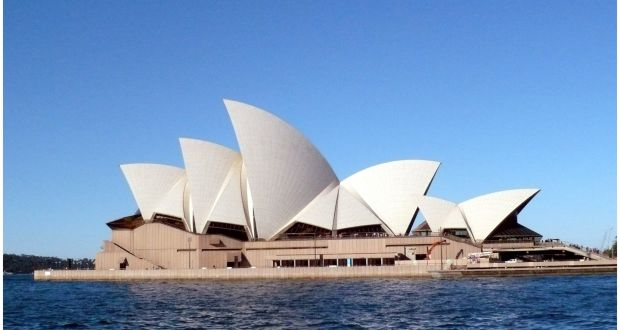opera house: (66, 87, 551, 270)
